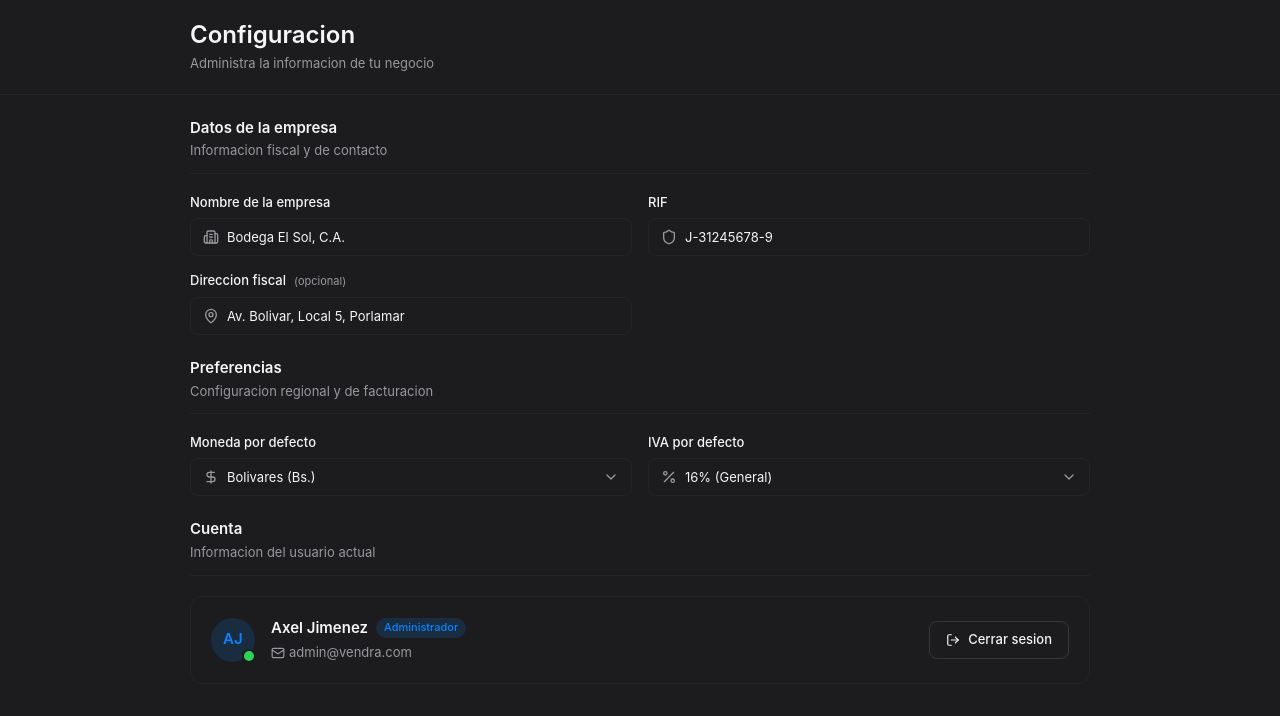
Test: Settings › saves changes to store and shows toast
Replace the text in the field labelled "Nombre de la empresa" with "Nueva Empresa": (423, 237) [227, 219, 619, 255]
(page scrolled)
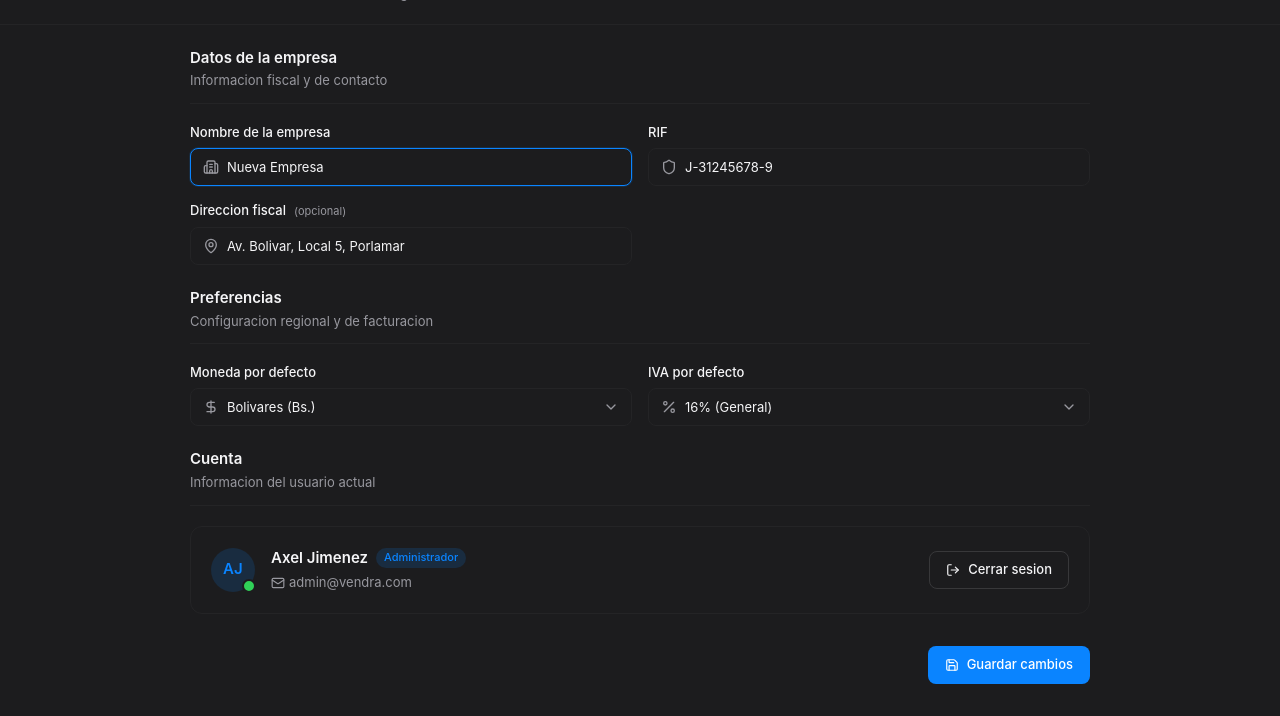
Click the button "Guardar cambios": (1009, 664) [928, 646, 1090, 684]
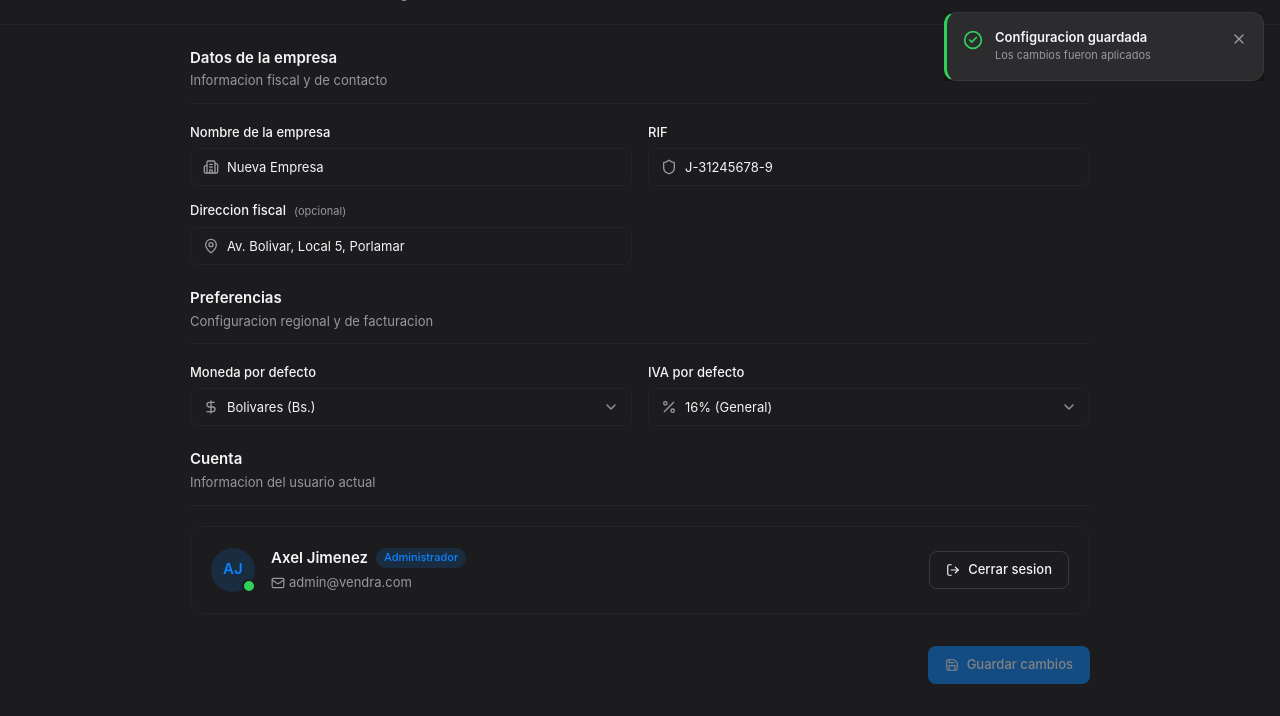
Expected: the text "Configuracion guardada" is shown, [995, 29, 1147, 45]
